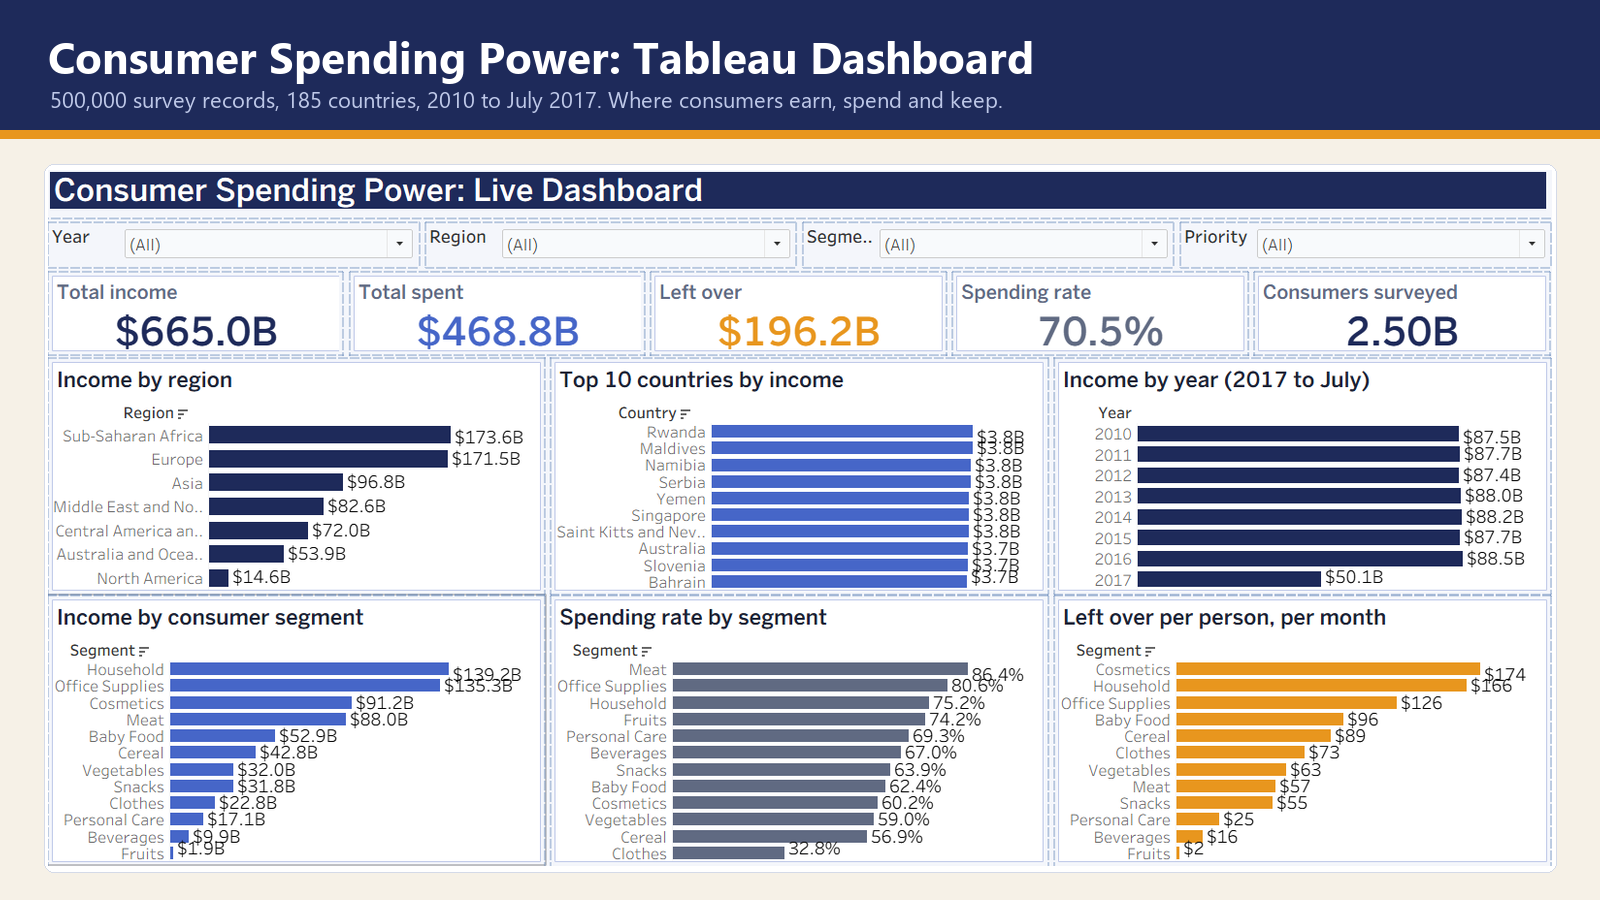

What the dashboard file says about the page in this screenshot:
{"tool":"tableau","page":{"name":"Dashboard","canvas":[1000,1000],"units":"permille","ordinal":1},"visuals":[{"type":"text","box":[0,0,1000,80]},{"type":"filter","title":"Income by region","param":"[federated.0credpal1summary2spending3].[none:Year:ok]","box":[5,85,245,65]},{"type":"filter","title":"Income by region","param":"[federated.0credpal1summary2spending3].[none:Region:nk]","box":[254,85,245,65]},{"type":"filter","title":"Income by region","param":"[federated.0credpal1summary2spending3].[none:Segment:nk]","box":[503,85,245,65]},{"type":"filter","title":"Income by region","param":"[federated.0credpal1summary2spending3].[none:Priority:nk]","box":[752,85,245,65]},{"type":"worksheet","title":"Total income","mark":"Automatic","box":[5,155,195,118]},{"type":"worksheet","title":"Total spent","mark":"Automatic","box":[204,155,195,118]},{"type":"worksheet","title":"Left over","mark":"Automatic","box":[403,155,195,118]},{"type":"worksheet","title":"Spending rate","mark":"Automatic","box":[602,155,195,118]},{"type":"worksheet","title":"Consumers surveyed","mark":"Automatic","box":[801,155,195,118]},{"type":"worksheet","title":"Income by region","mark":"Bar","rows":["Region"],"cols":["Calculation_1000000000000001"],"box":[5,278,328,335]},{"type":"worksheet","title":"Top 10 countries","mark":"Bar","rows":["Country"],"cols":["Calculation_1000000000000001"],"box":[337,278,328,335]},{"type":"worksheet","title":"Income by year","mark":"Bar","rows":["Year"],"cols":["Calculation_1000000000000001"],"box":[669,278,328,335]},{"type":"worksheet","title":"Income by segment","mark":"Bar","rows":["Segment"],"cols":["Calculation_1000000000000001"],"box":[5,615,328,383]},{"type":"worksheet","title":"Spending rate by segment","mark":"Bar","rows":["Segment"],"cols":["Calculation_1000000000000004"],"box":[337,615,328,383]},{"type":"worksheet","title":"Left over per person","mark":"Bar","rows":["Segment"],"cols":["Calculation_1000000000000006"],"box":[669,615,328,383]}]}

Visuals, with their boxes on the dashboard's canvas, which has no fixed pixel size, in thousandths of its width and height (x1, y1, x2, y2). These are canvas units, not pixel positions in the 1600x900 screenshot, which may show the page scaled, cropped or inside an application window:
text: [left=0, top=0, right=1000, bottom=80]
"Income by region" filter: [left=5, top=85, right=250, bottom=150]
"Income by region" filter: [left=254, top=85, right=499, bottom=150]
"Income by region" filter: [left=503, top=85, right=748, bottom=150]
"Income by region" filter: [left=752, top=85, right=997, bottom=150]
"Total income" worksheet: [left=5, top=155, right=200, bottom=273]
"Total spent" worksheet: [left=204, top=155, right=399, bottom=273]
"Left over" worksheet: [left=403, top=155, right=598, bottom=273]
"Spending rate" worksheet: [left=602, top=155, right=797, bottom=273]
"Consumers surveyed" worksheet: [left=801, top=155, right=996, bottom=273]
"Income by region" worksheet (Bar marks): [left=5, top=278, right=333, bottom=613]
"Top 10 countries" worksheet (Bar marks): [left=337, top=278, right=665, bottom=613]
"Income by year" worksheet (Bar marks): [left=669, top=278, right=997, bottom=613]
"Income by segment" worksheet (Bar marks): [left=5, top=615, right=333, bottom=998]
"Spending rate by segment" worksheet (Bar marks): [left=337, top=615, right=665, bottom=998]
"Left over per person" worksheet (Bar marks): [left=669, top=615, right=997, bottom=998]
